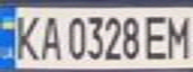0: (63, 12, 87, 61)
2: (103, 11, 124, 62)
3: (84, 12, 106, 61)
8: (121, 11, 145, 62)
A: (36, 11, 63, 62)
E: (142, 11, 172, 61)
K: (9, 10, 42, 62)
M: (163, 11, 193, 60)
